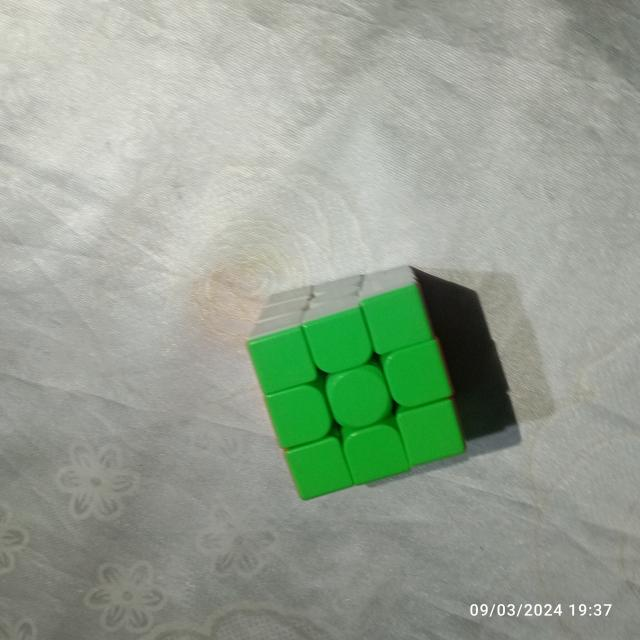Rub: (242, 255, 472, 507)
